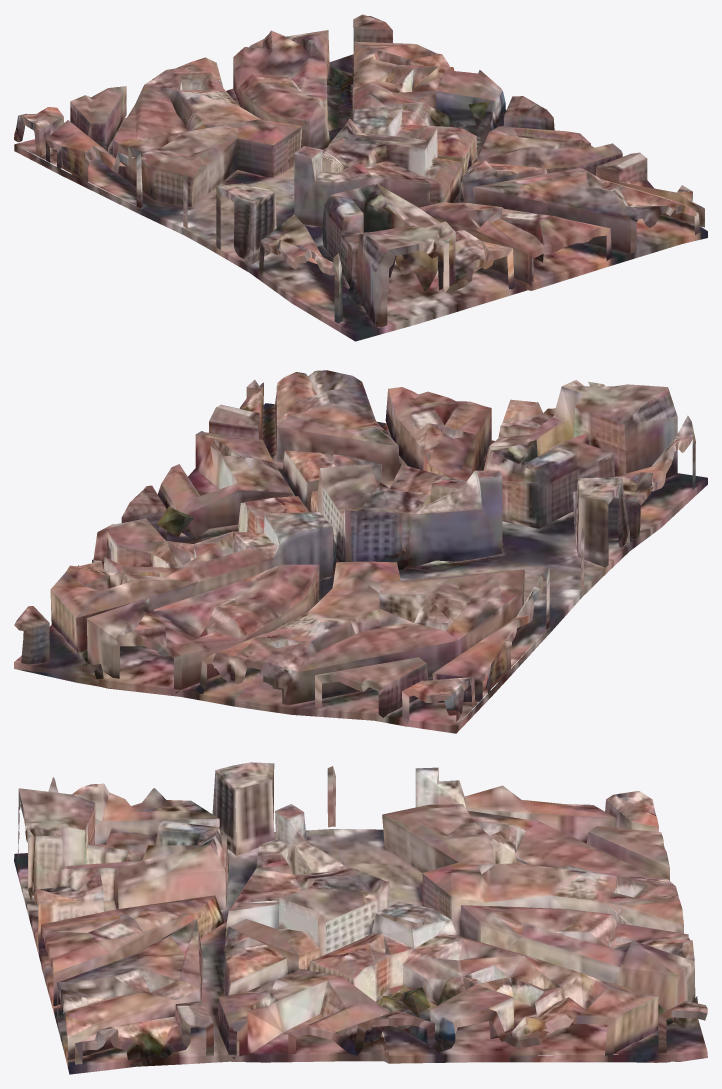
The picture shows the model from 3 angles, top to bottom: view 1: azimuth 30°, elevation 25°; view 2: azimuth 150°, elevation 25°; view 3: azimuth 270°, elevation 25°; orthographic projection. The views are drawn at different scales.
Visible parts, largest first — view 1: Mesh_0; view 2: Mesh_0; view 3: Mesh_0.
Part boxes in pixels (left/top/right/bottom): Mesh_0: left=14, top=14, right=707, bottom=341; Mesh_0: left=14, top=370, right=707, bottom=733; Mesh_0: left=14, top=762, right=707, bottom=1074.
Bounding box in the file's own units: 266 × 60.73 × 330.
Materials: 2 (2 with a texture image).
